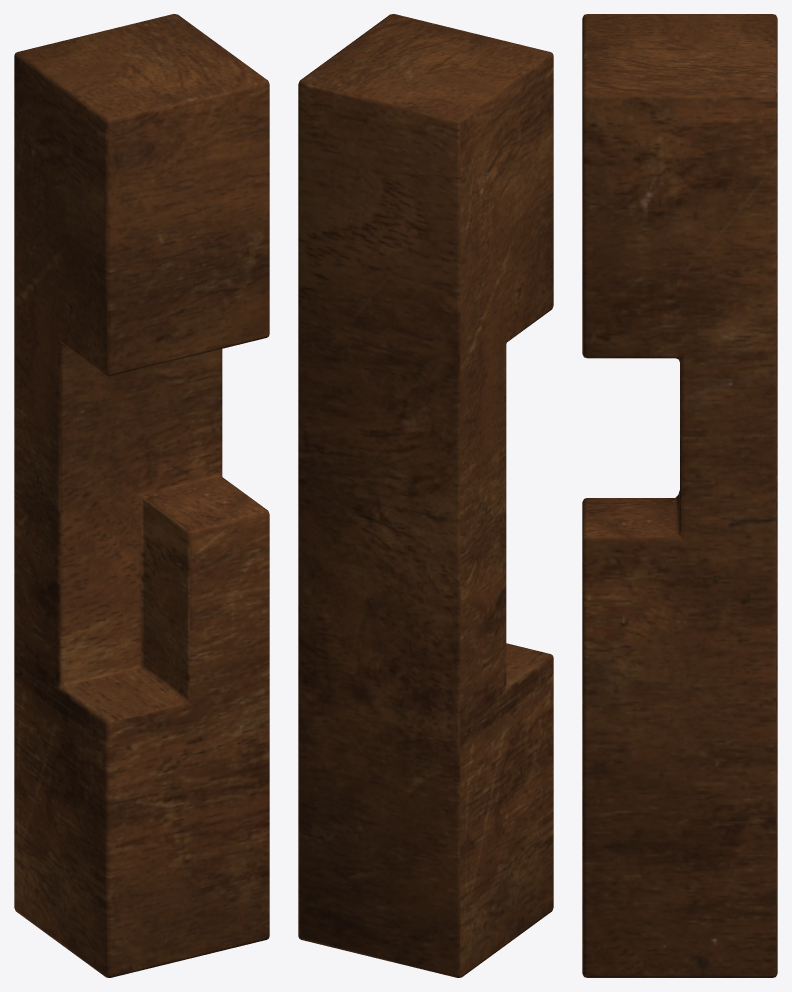
The model's file is viewer_luban_b.glb.
3 views of the same model, side by side, from view 1: azimuth 30°, elevation 25°; view 2: azimuth 150°, elevation 25°; view 3: azimuth 270°, elevation 25° (orthographic). The views are drawn at different scales.
Visible parts, largest first — view 1: luban_b; view 2: luban_b; view 3: luban_b.
Boxes of the visible parts, x1,y1,x2,y2 form: luban_b: [14, 14, 269, 977]; luban_b: [298, 14, 553, 977]; luban_b: [582, 14, 777, 977].
Size of the model in its own units: 2 by 10 by 2.
1 material, 1 textured.
